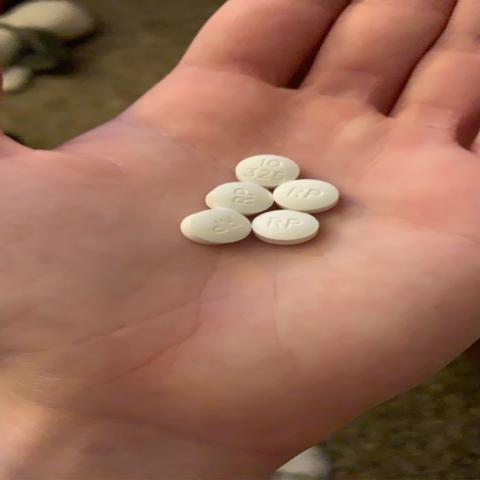Pill: (255, 205, 340, 257), (176, 205, 260, 250), (193, 178, 279, 214), (271, 178, 351, 210), (232, 152, 296, 185)
